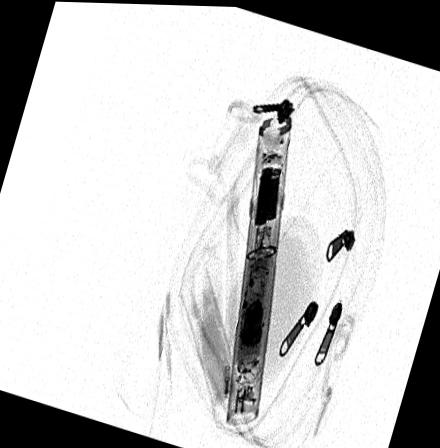Baton: (224, 112, 292, 426)
